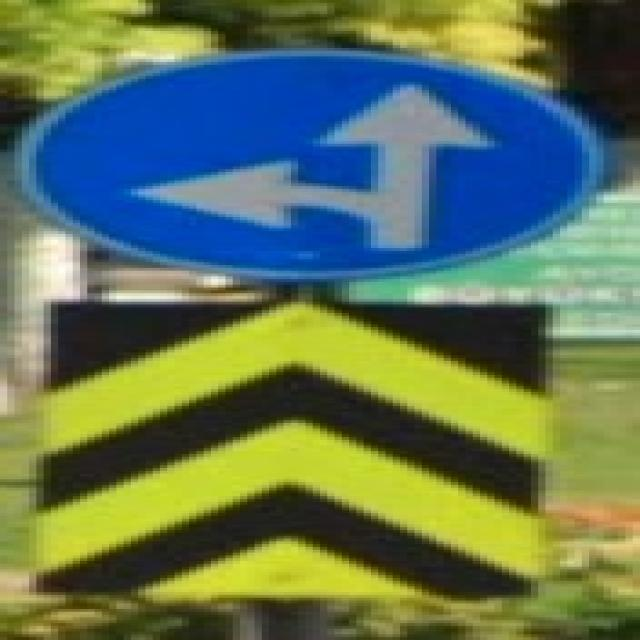Straight or Left: (19, 52, 601, 277)
